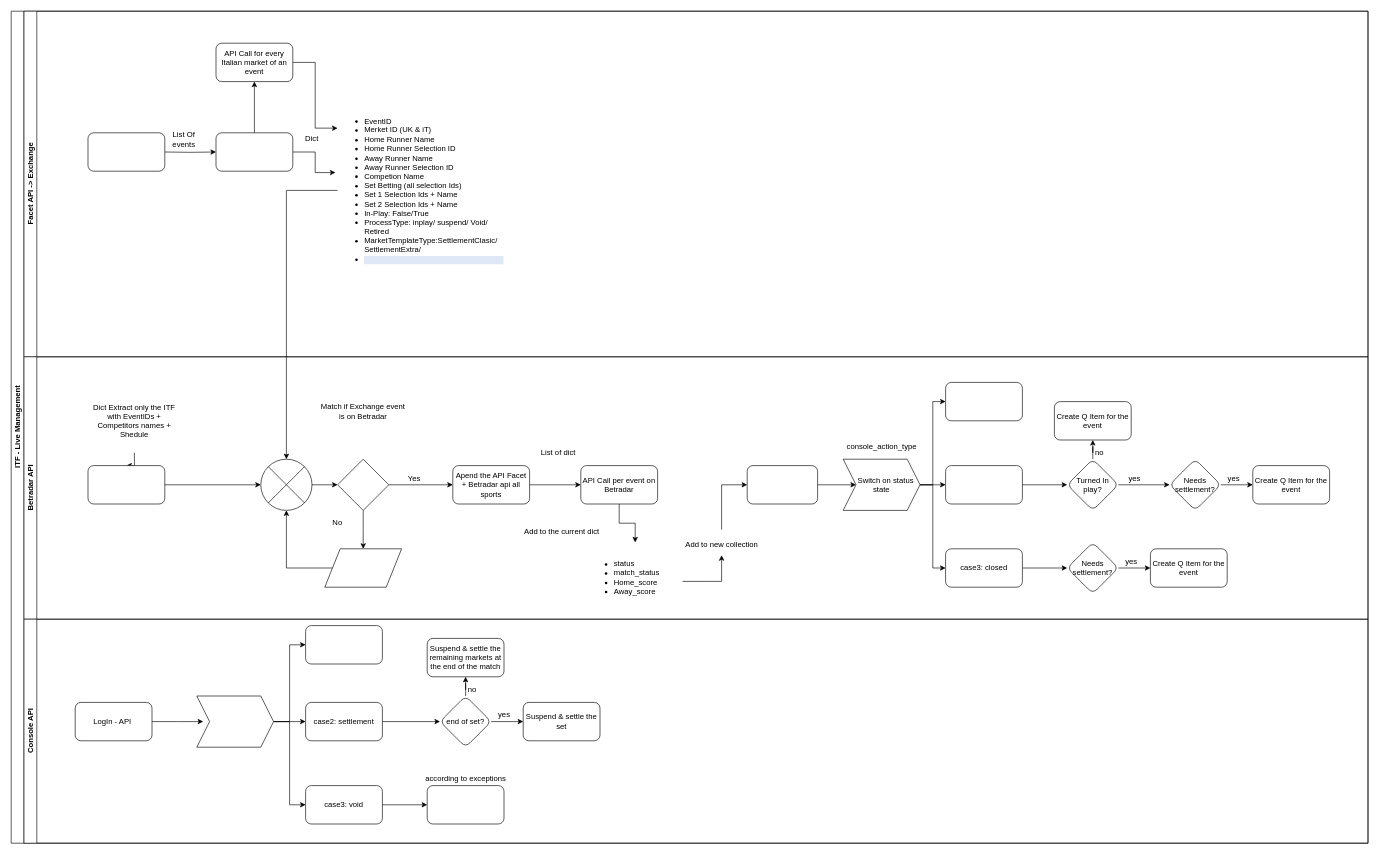
The diagram is 1379 pixels wide and 854 high, and some of its shapes have lost their labels. Each missing label, with the box of its shape:
API Call for all ITF Tennis events: (87, 132, 165, 171)
API Call for every EventId: (215, 132, 293, 171)
Betradar API All Sports: (87, 465, 165, 504)
case1: not_started: (945, 382, 1022, 421)
case1: turn in play: (305, 625, 382, 664)
case2: live/ match_about_to_start: (945, 465, 1022, 504)
Notify the team: (324, 548, 402, 587)
Parse the list of dict: (747, 465, 818, 504)
Switch on action needed: (196, 695, 274, 747)
Void the markets without determined result: (427, 785, 504, 824)
